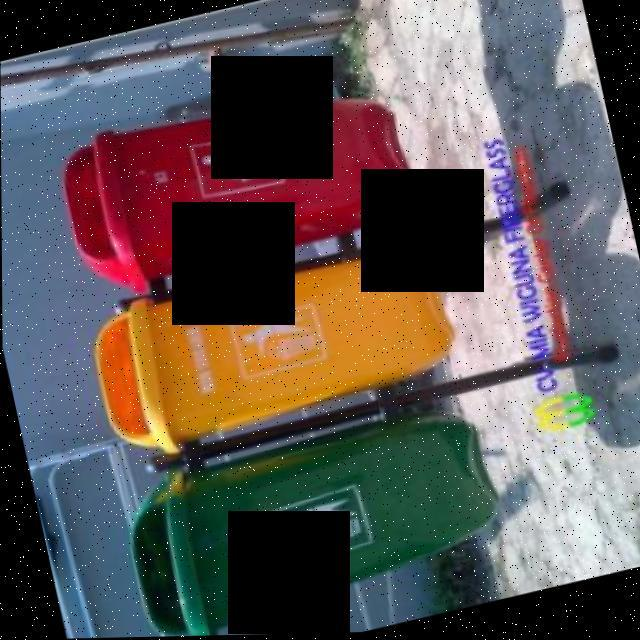bin: (31, 50, 443, 312), (104, 389, 531, 638), (68, 221, 473, 477)
